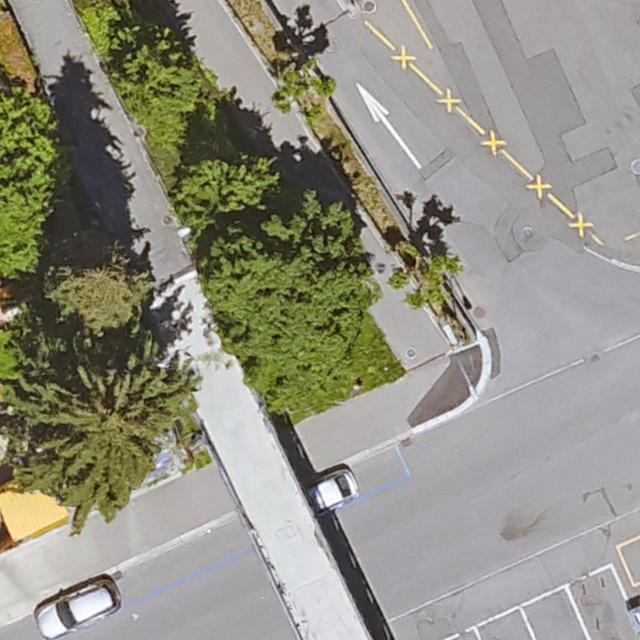tree: (5, 332, 181, 511), (204, 213, 372, 393), (1, 89, 64, 284), (50, 242, 153, 333), (110, 28, 208, 120), (173, 155, 279, 236), (394, 246, 462, 307), (281, 69, 331, 118)
